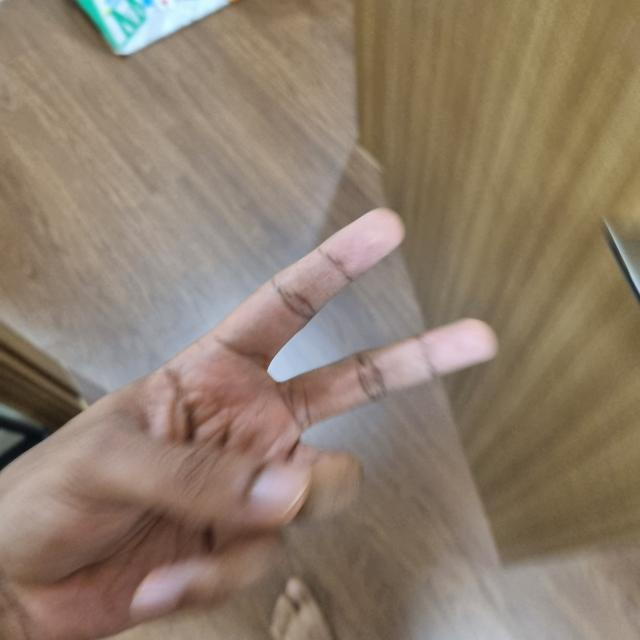Scissors: (1, 212, 491, 638)
